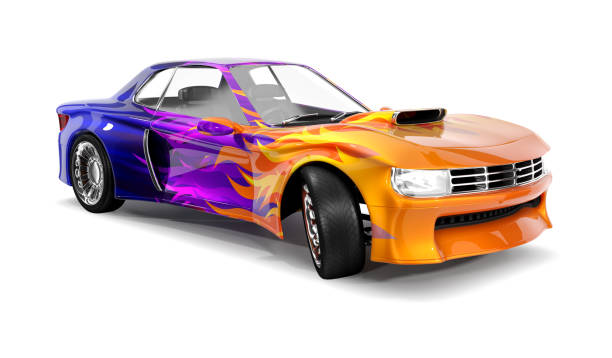Car: (43, 45, 565, 299)
